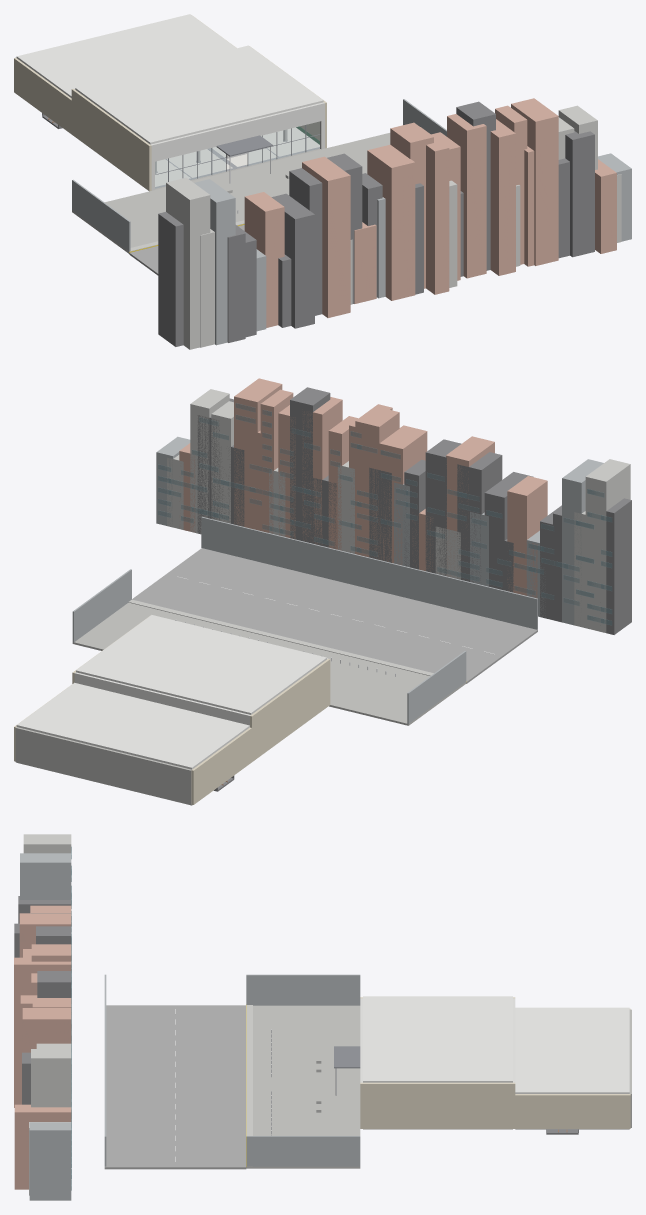
Rendered from station.glb.
The picture shows the model from 3 angles, top to bottom: view 1: azimuth 30°, elevation 25°; view 2: azimuth 150°, elevation 25°; view 3: azimuth 270°, elevation 25°; orthographic projection.
Visible parts, largest first — view 1: station_forecourt, station_ceiling, station_platform, station_walls, station_floor, station_glass; view 2: station_forecourt, station_platform, station_ceiling, station_walls; view 3: station_forecourt, station_platform, station_ceiling, station_walls.
Boxes of the visible parts, x1=… form: station_forecourt: x1=72, y1=98, x2=631, y2=349; station_ceiling: x1=75, y1=45, x2=323, y2=144; station_platform: x1=14, y1=14, x2=236, y2=134; station_walls: x1=71, y1=46, x2=326, y2=191; station_floor: x1=155, y1=127, x2=320, y2=189; station_glass: x1=155, y1=122, x2=319, y2=188; station_forecourt: x1=72, y1=378, x2=631, y2=725; station_platform: x1=14, y1=682, x2=251, y2=805; station_ceiling: x1=76, y1=615, x2=326, y2=714; station_walls: x1=72, y1=616, x2=330, y2=761; station_forecourt: x1=14, y1=834, x2=360, y2=1200; station_platform: x1=515, y1=1007, x2=631, y2=1134; station_ceiling: x1=363, y1=996, x2=512, y2=1082; station_walls: x1=334, y1=997, x2=515, y2=1128.
Bounding box in the file's own units: 125 × 41.56 × 148.
